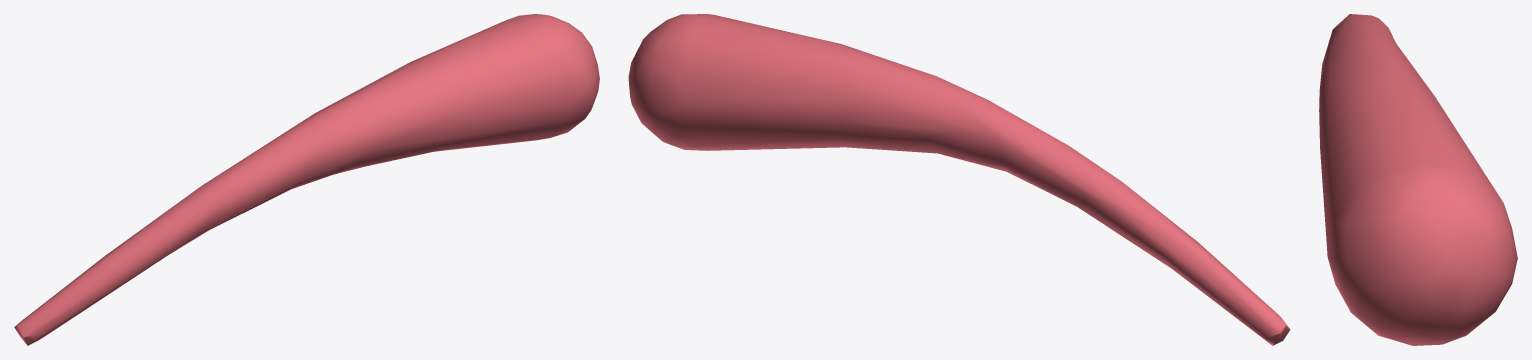
File: fma68677_fj2974.glb
The picture shows the model from 3 angles, left to right: view 1: azimuth 30°, elevation 25°; view 2: azimuth 150°, elevation 25°; view 3: azimuth 270°, elevation 25°; orthographic projection. The views are drawn at different scales.
Parts seen in each view (by area): view 1: FMA68677_FJ2974; view 2: FMA68677_FJ2974; view 3: FMA68677_FJ2974.
Part boxes in pixels (bbox=[...]): FMA68677_FJ2974: bbox=[14, 14, 599, 345]; FMA68677_FJ2974: bbox=[628, 14, 1290, 345]; FMA68677_FJ2974: bbox=[1319, 14, 1517, 345].
Size of the model in its own units: 0.0516 by 0.0156 by 0.0102.
